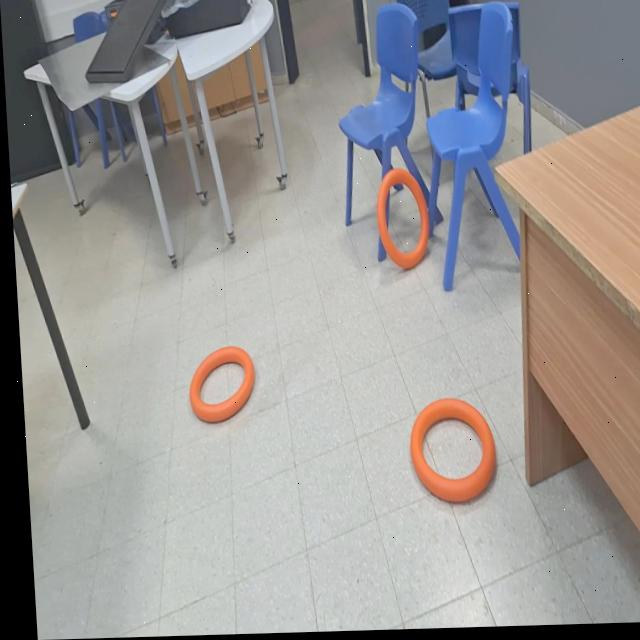note: (402, 399, 493, 508), (372, 170, 429, 273), (181, 347, 252, 426)
